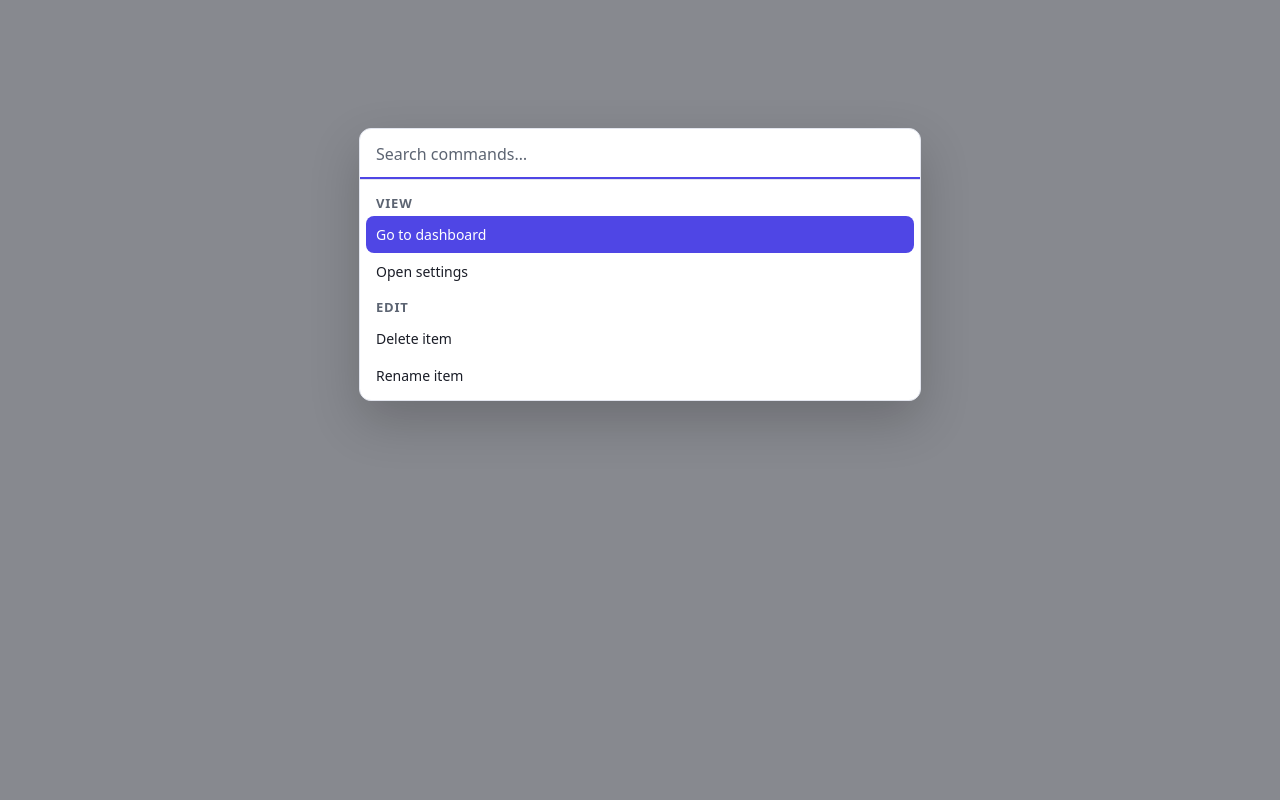
Test: CommandPalette › shows the empty state when nothing matches
The width and height of the screenshot is (1280, 800).
Type "zzz" into the dropdown at (656,154), box [360, 129, 952, 180]
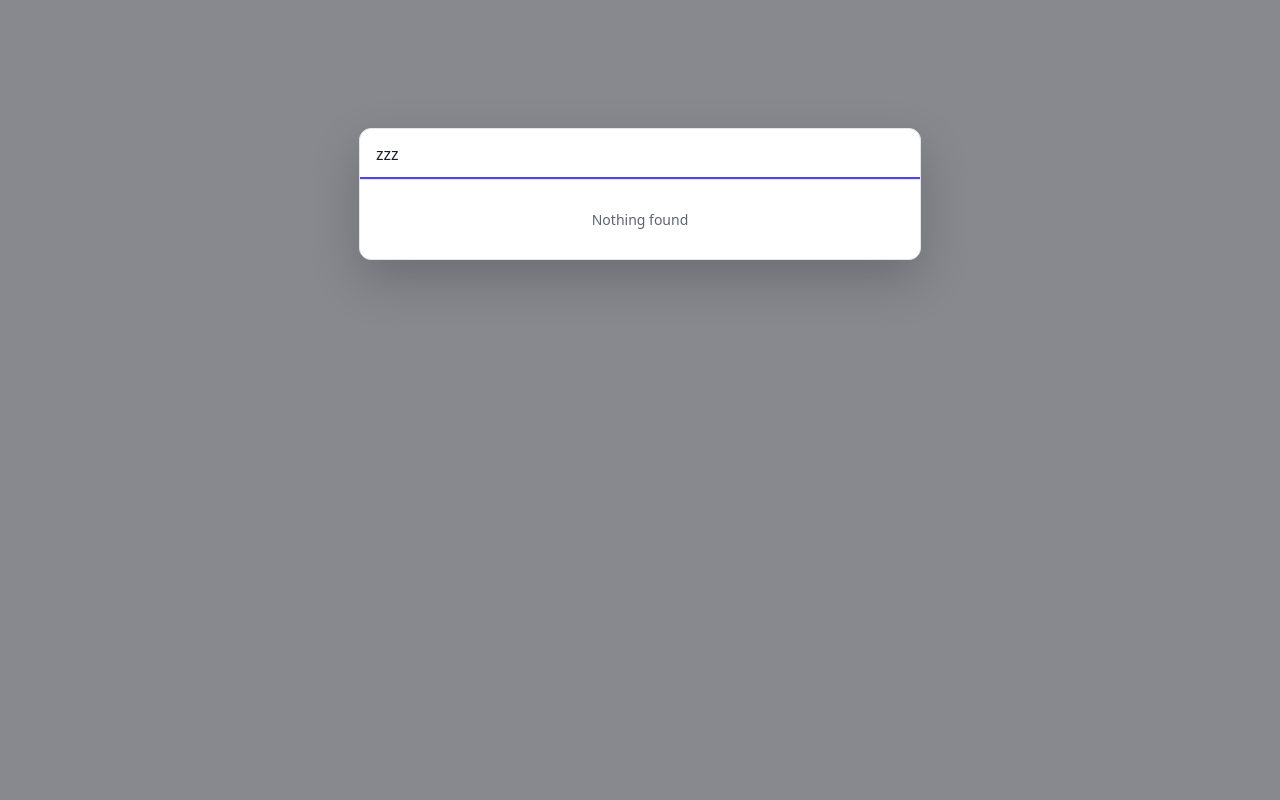
Now the text "Nothing found" is shown, box [592, 210, 688, 229]
